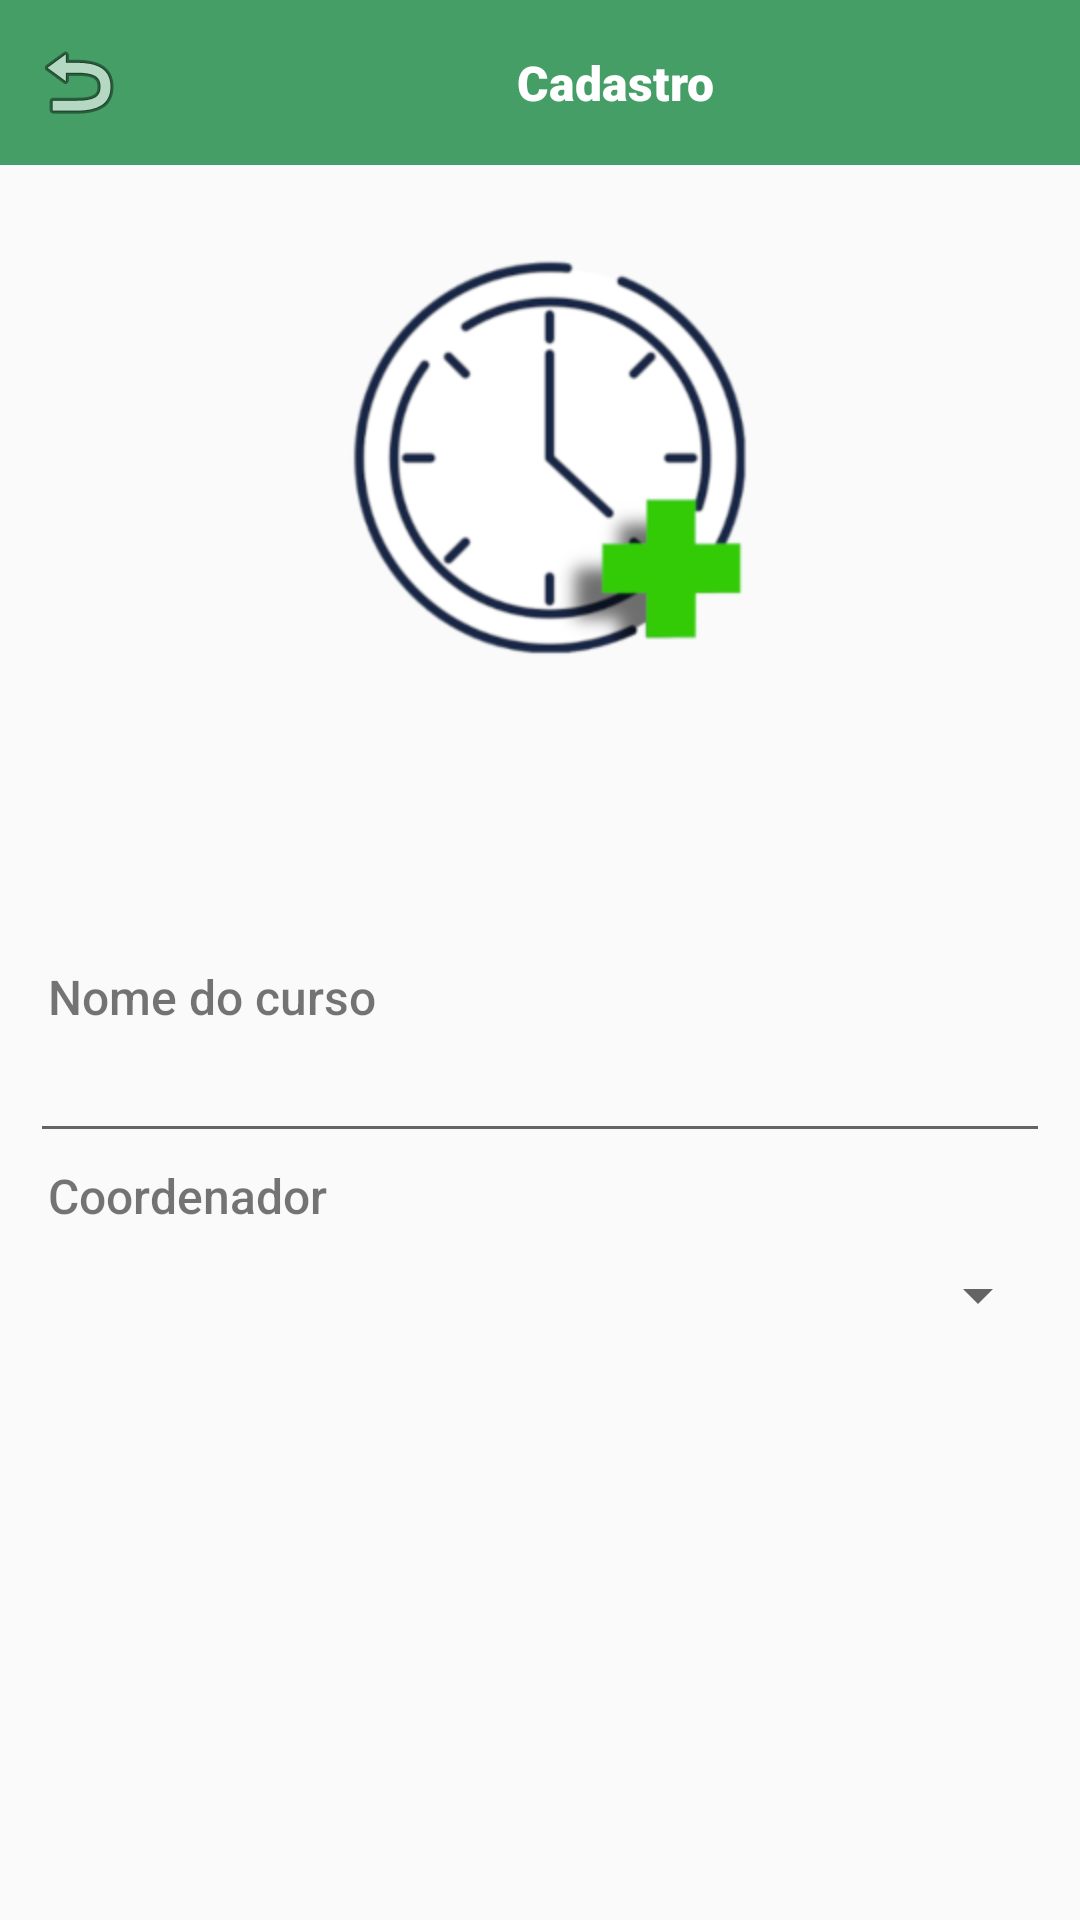

Icons on this 1080 × 1920 Android screen, each with its box as (x1, y1, x2, y2):
revert: (45, 52, 114, 114)
